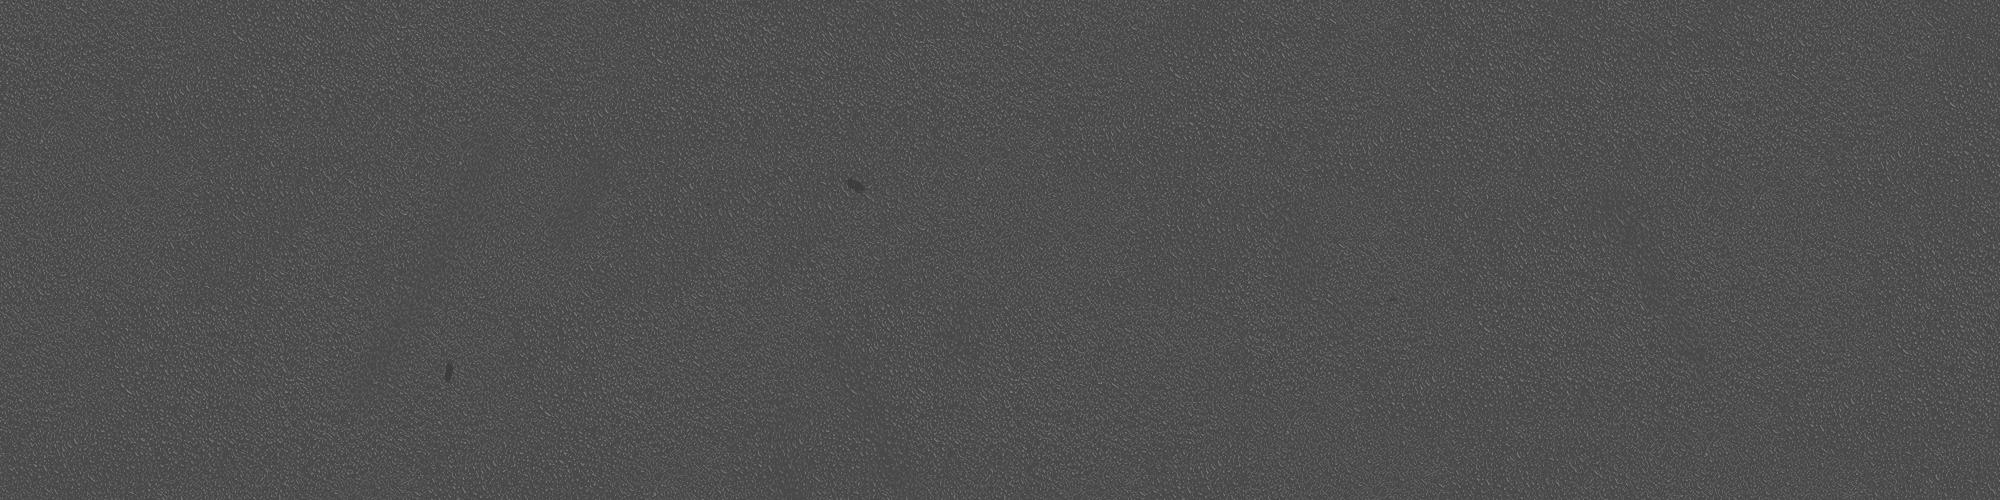Decomposed: (437, 364, 460, 385), (844, 177, 871, 194)
